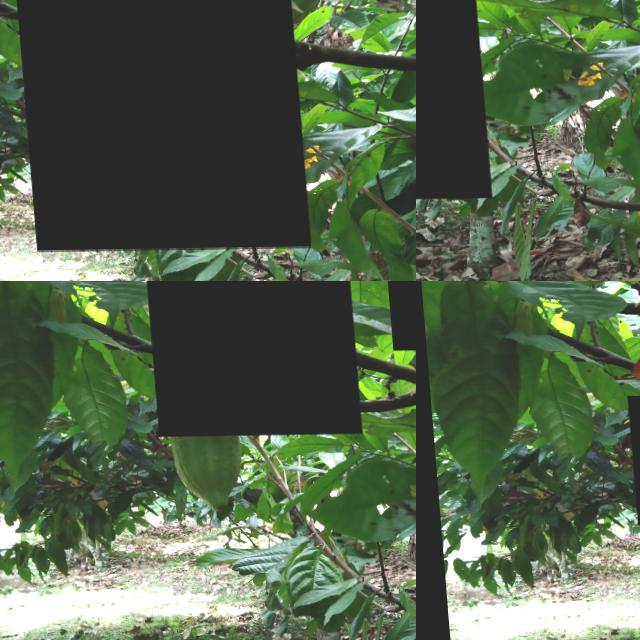Monilia: (6, 0, 302, 252)
Sana: (135, 281, 357, 437), (416, 0, 483, 201), (380, 281, 416, 352), (622, 395, 640, 525)
